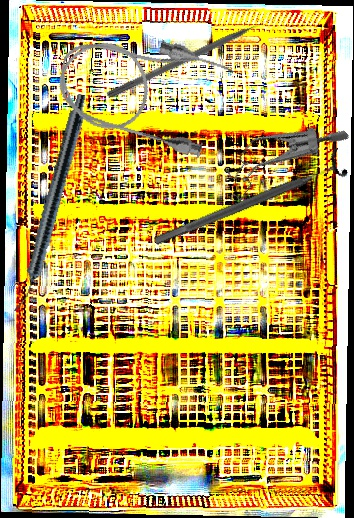Cannula: (48, 16, 237, 162)
Fixation Ring: (148, 146, 350, 256)
Handpiece: (11, 91, 91, 316)
Pusher: (105, 12, 280, 102)
Speculum: (211, 87, 352, 233)
